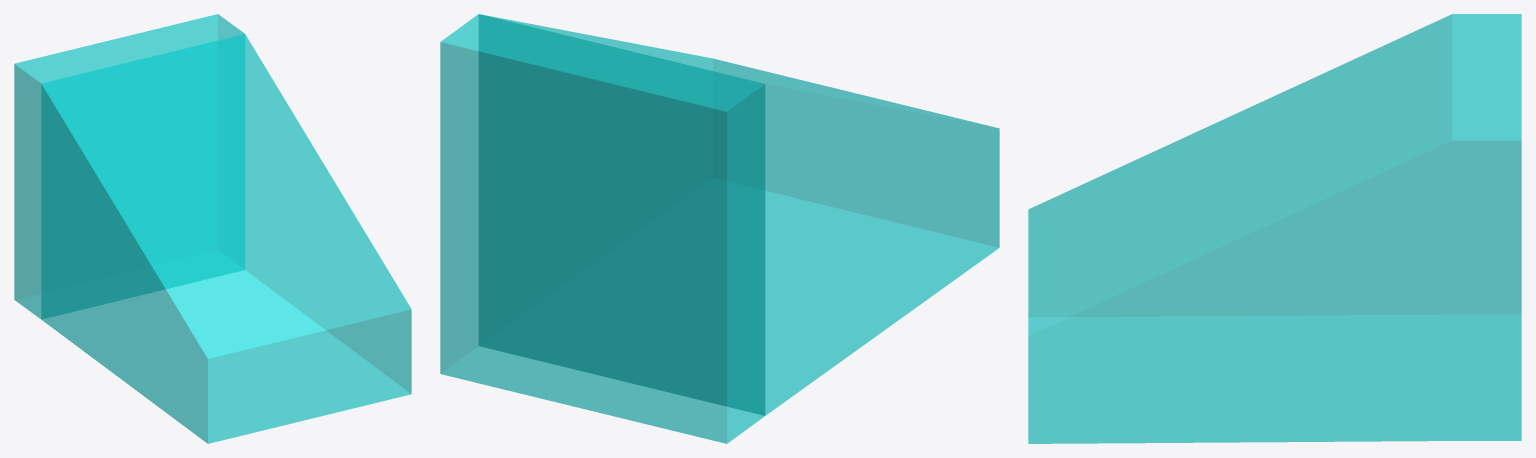
Rendered from SM_Env_Stone_Stairs_02_Collision.fbx.
3 renders of one model, left to right at view 1: azimuth 30°, elevation 25°; view 2: azimuth 150°, elevation 25°; view 3: azimuth 270°, elevation 25°, orthographic. The views are drawn at different scales.
Visible parts, largest first — view 1: SM_Env_Stone_Stairs_02_Collision; view 2: SM_Env_Stone_Stairs_02_Collision; view 3: SM_Env_Stone_Stairs_02_Collision.
Boxes of the visible parts, box(x1,y1,x2,y2) form: SM_Env_Stone_Stairs_02_Collision: box(14, 14, 411, 443); SM_Env_Stone_Stairs_02_Collision: box(440, 14, 999, 443); SM_Env_Stone_Stairs_02_Collision: box(1028, 14, 1521, 443).
Size of the model in its own units: 207 by 231 by 340.
